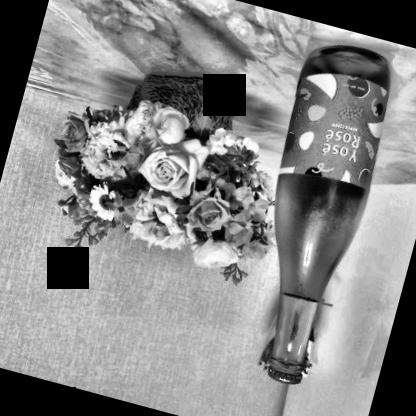yoserose: (274, 63, 396, 193)
